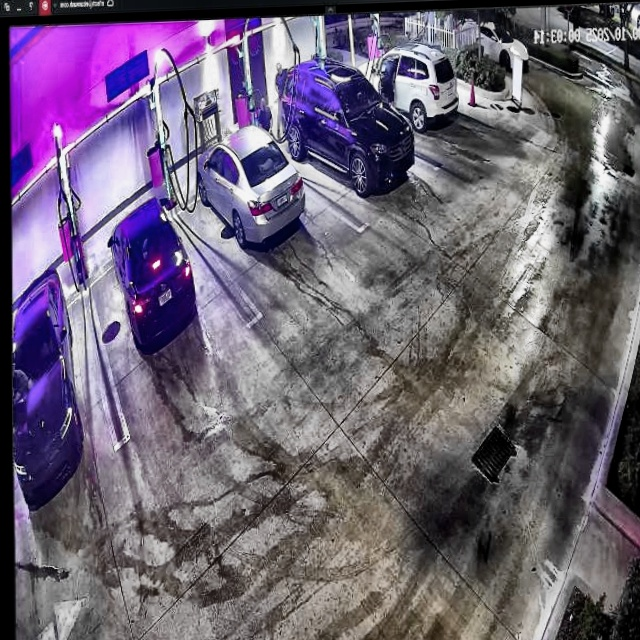Car: (282, 54, 417, 193), (106, 195, 197, 351), (195, 122, 306, 245)
